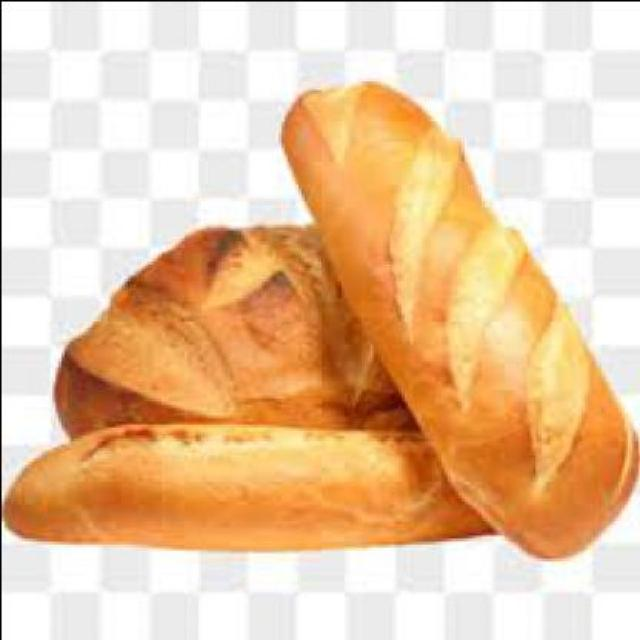BIODEGRADABLE: (277, 77, 637, 557), (49, 221, 418, 445), (2, 420, 500, 549)
